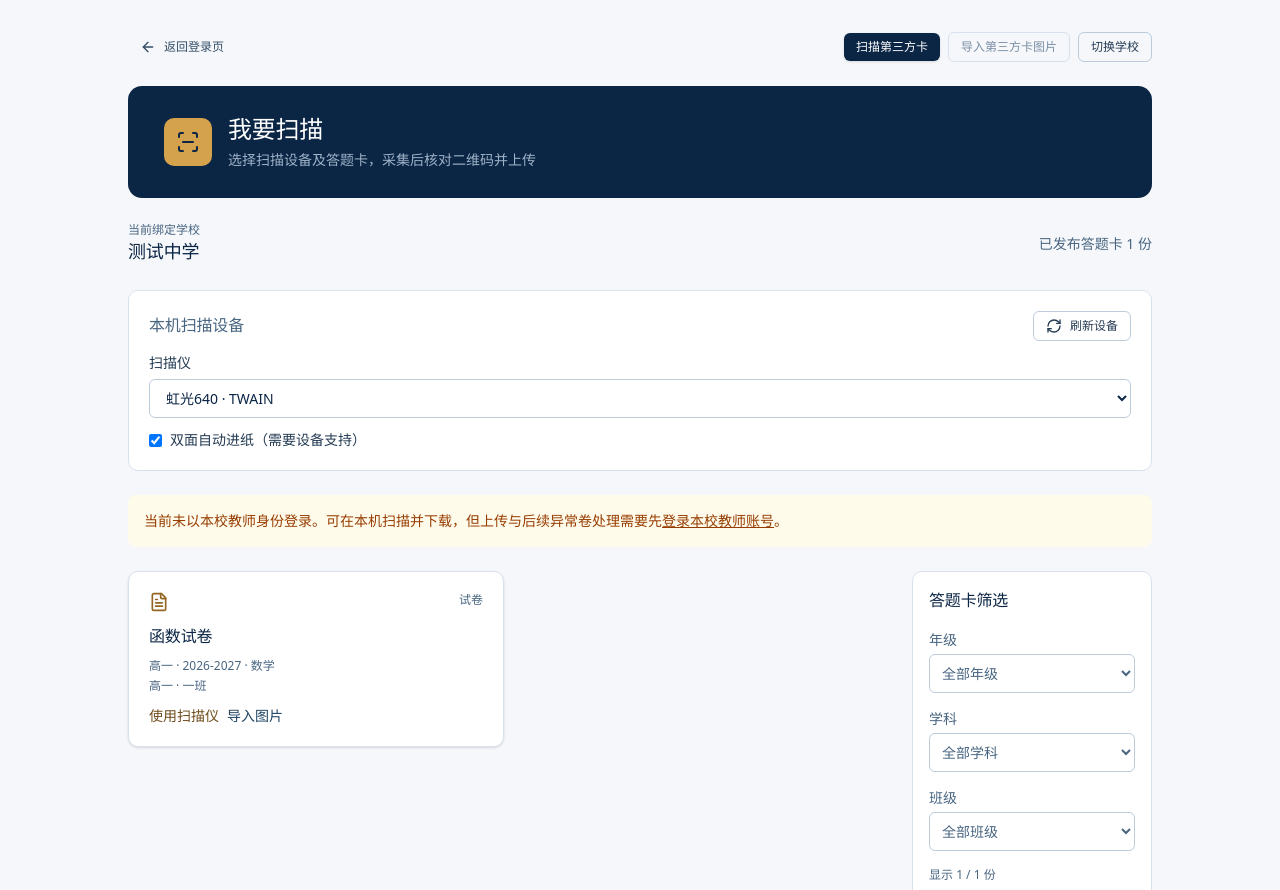
it: ScannerPage › prevents unauthenticated third-party scans
What coordinates should you click on to do the following:
click the button "扫描第三方卡"
I would click on:
 (892, 47)
Its box is [844,33,940,61].
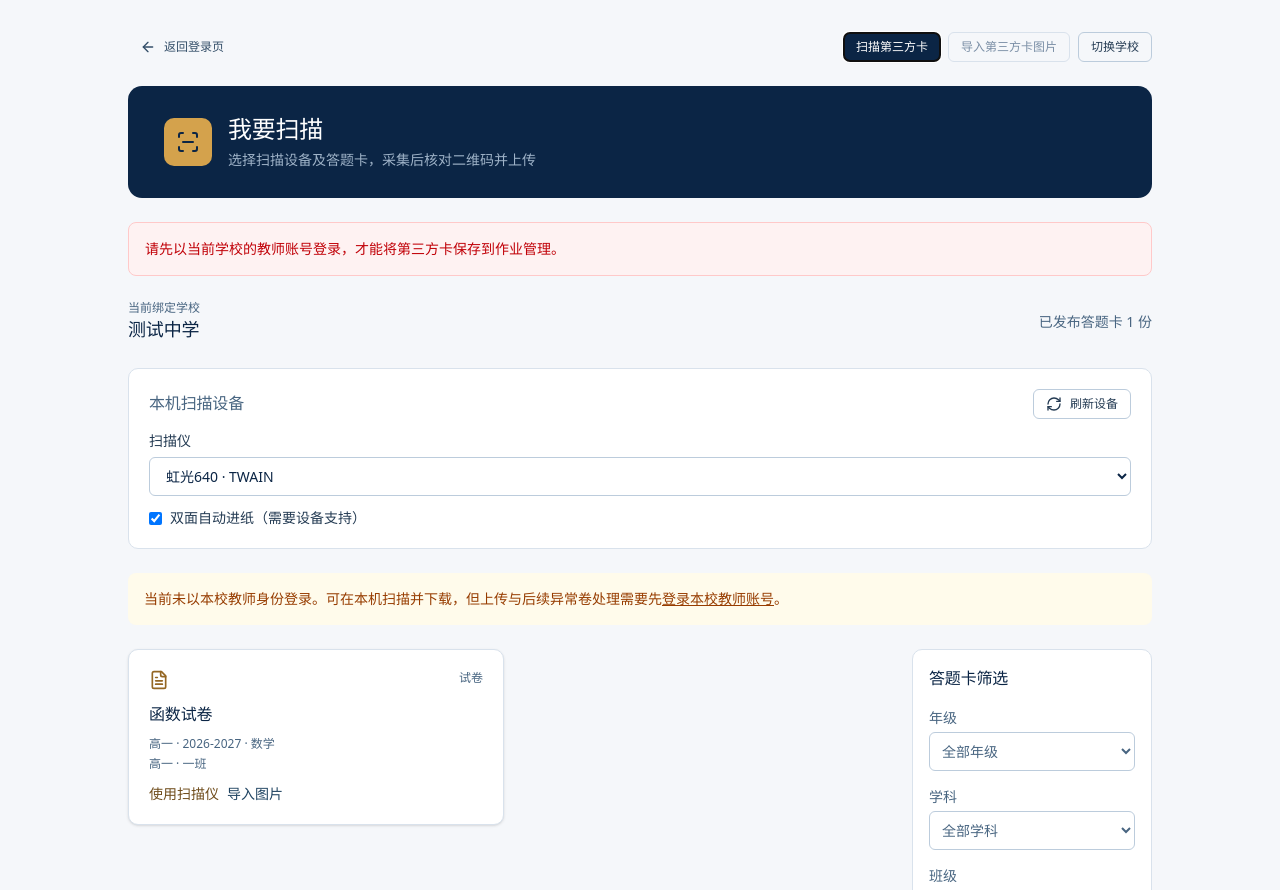
Expected: the message shows "请先以当前学校的教师账号登录", [145,239,565,258]
